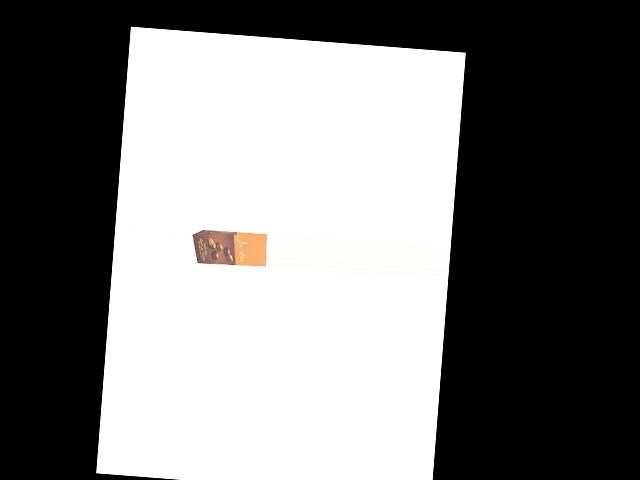chocolate: (190, 226, 268, 272)
